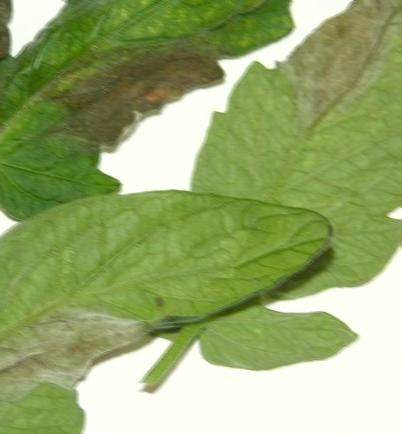Tomato leaf late blight: (153, 0, 402, 363), (0, 180, 329, 434), (0, 0, 348, 211)
